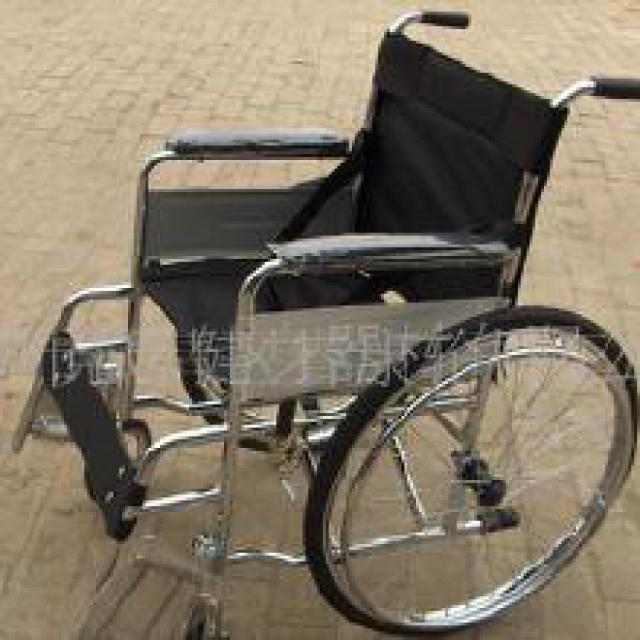wheelchair: (3, 8, 637, 638)
